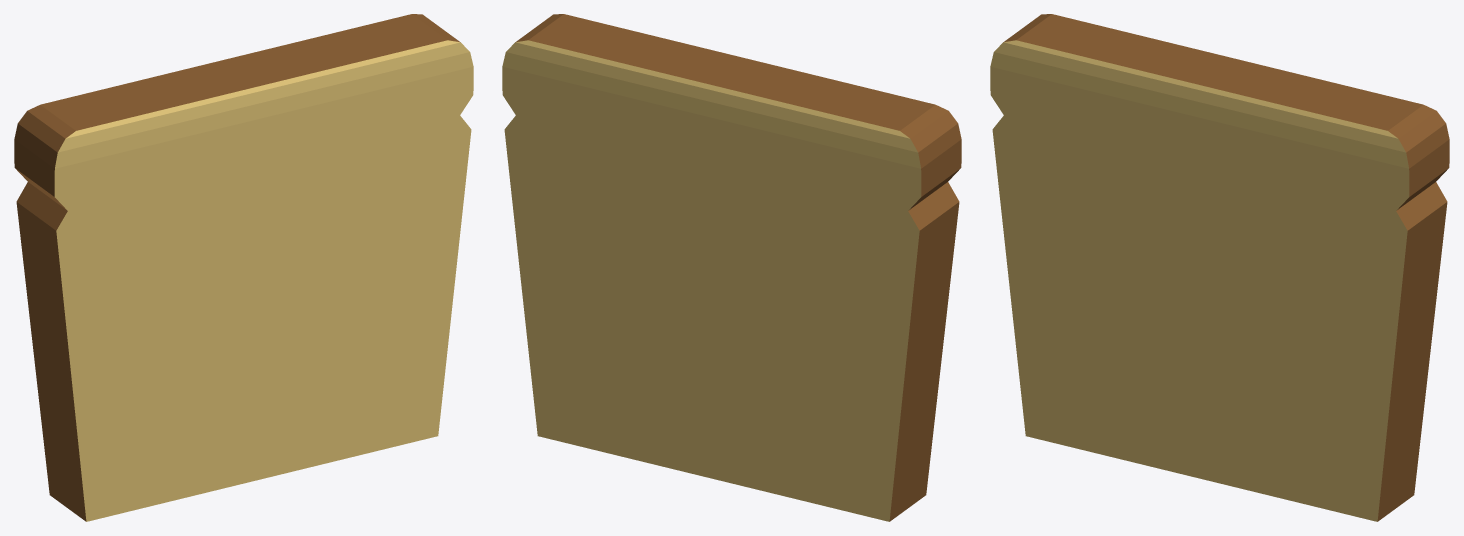
The model's file is bread.glb.
The picture shows the model from 3 angles, left to right: view 1: azimuth 30°, elevation 25°; view 2: azimuth 150°, elevation 25°; view 3: azimuth 330°, elevation 25°; orthographic projection.
Visible parts, largest first — view 1: Plane; view 2: Plane; view 3: Plane.
Part boxes in pixels (x1,y1,x2,y2): Plane: [14, 14, 473, 521]; Plane: [502, 14, 961, 521]; Plane: [990, 14, 1449, 521].
Bounding box in the file's own units: 1.92 × 1.73 × 0.322.
